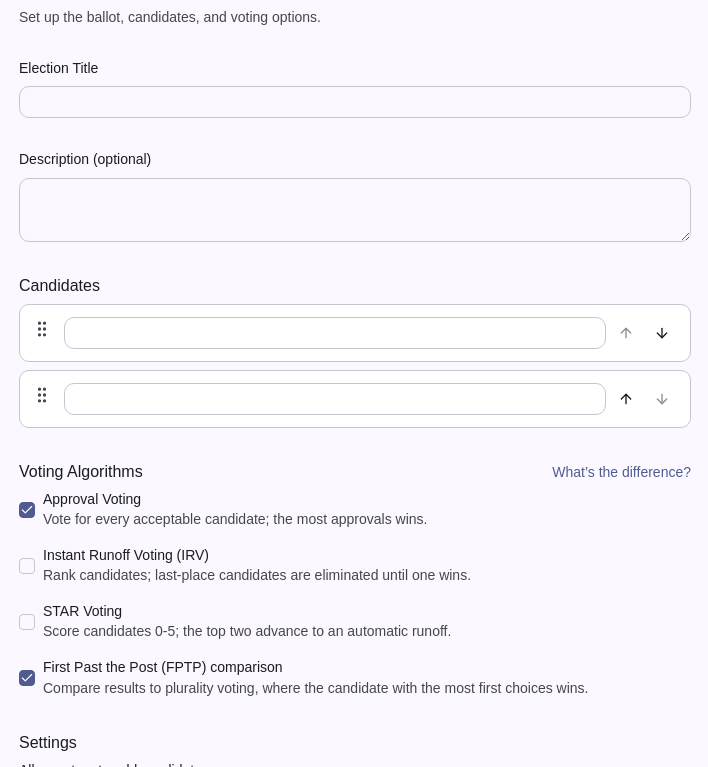
M11 create election › validates title, candidate count, and algorithm selection before writing
The image size is (708, 767).
Click the checkbox named "Approval Voting" next to "Approval Voting" at (27,510), box [19,502,35,518]
(page scrolled)
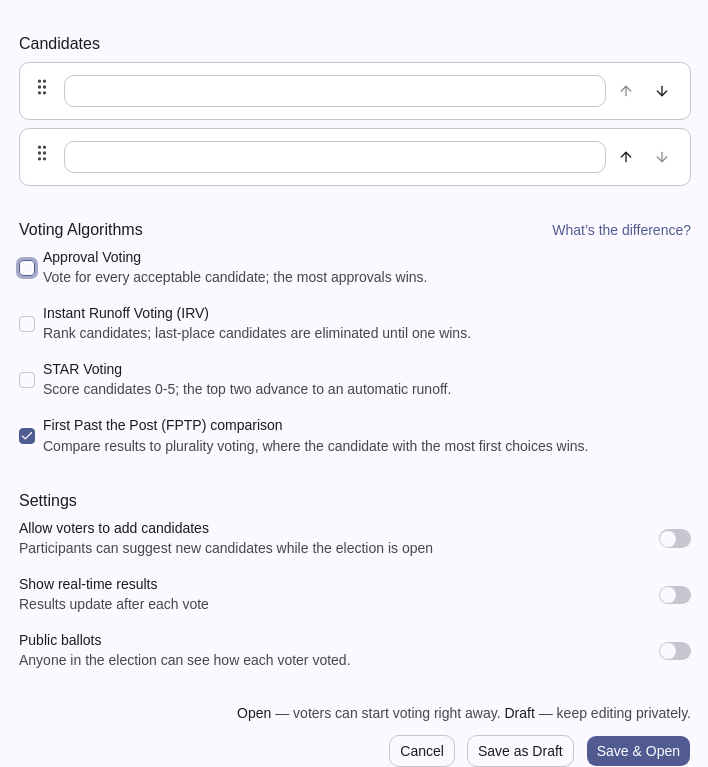
Click the button "Save & Open" at (638,751), box [586,735,691,766]
(page scrolled)
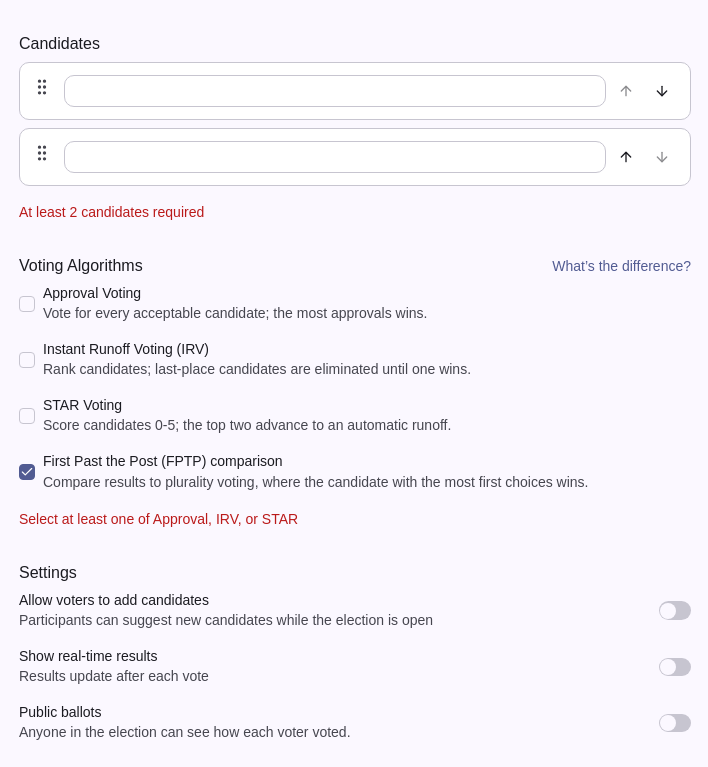
Result: the text "At least 2 candidates required" is shown at [19,204,204,220]
Result: the text "Select at least one of Approval, IRV, or STAR" is shown at [19,510,298,526]
